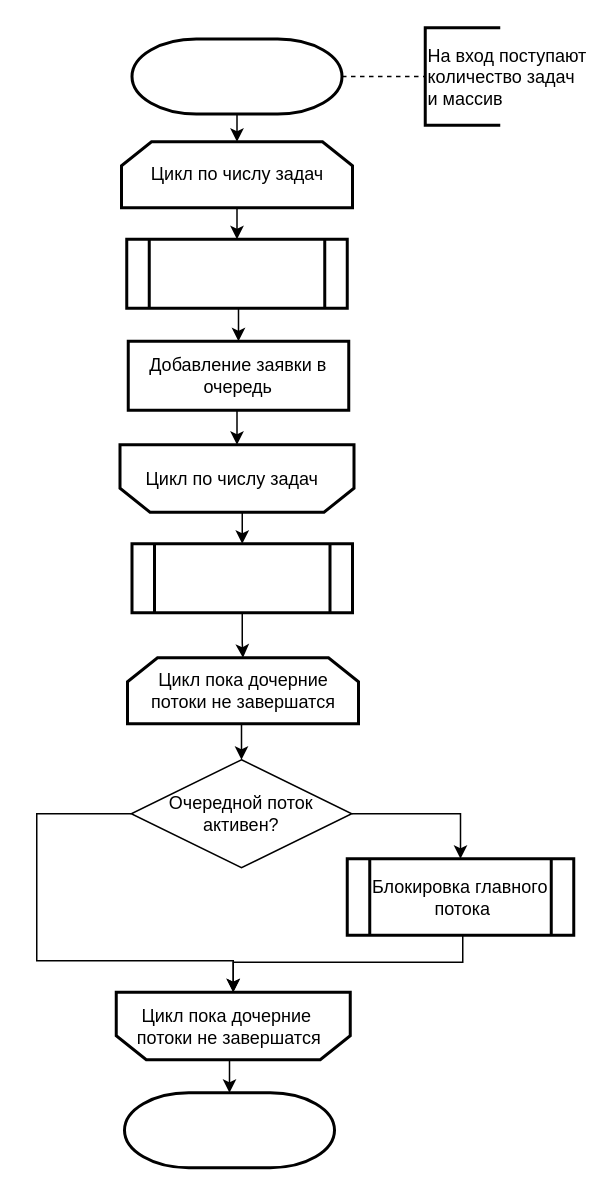
This 614x1194 diagram has some shape labels left out. Here are the shapes that lost their labels. From the top down, the box of each, then its label:
(130, 37, 343, 115): Начало
(124, 237, 348, 309): Создание заявки
(130, 542, 353, 614): Запуск потоков
(122, 1090, 335, 1168): Конец
